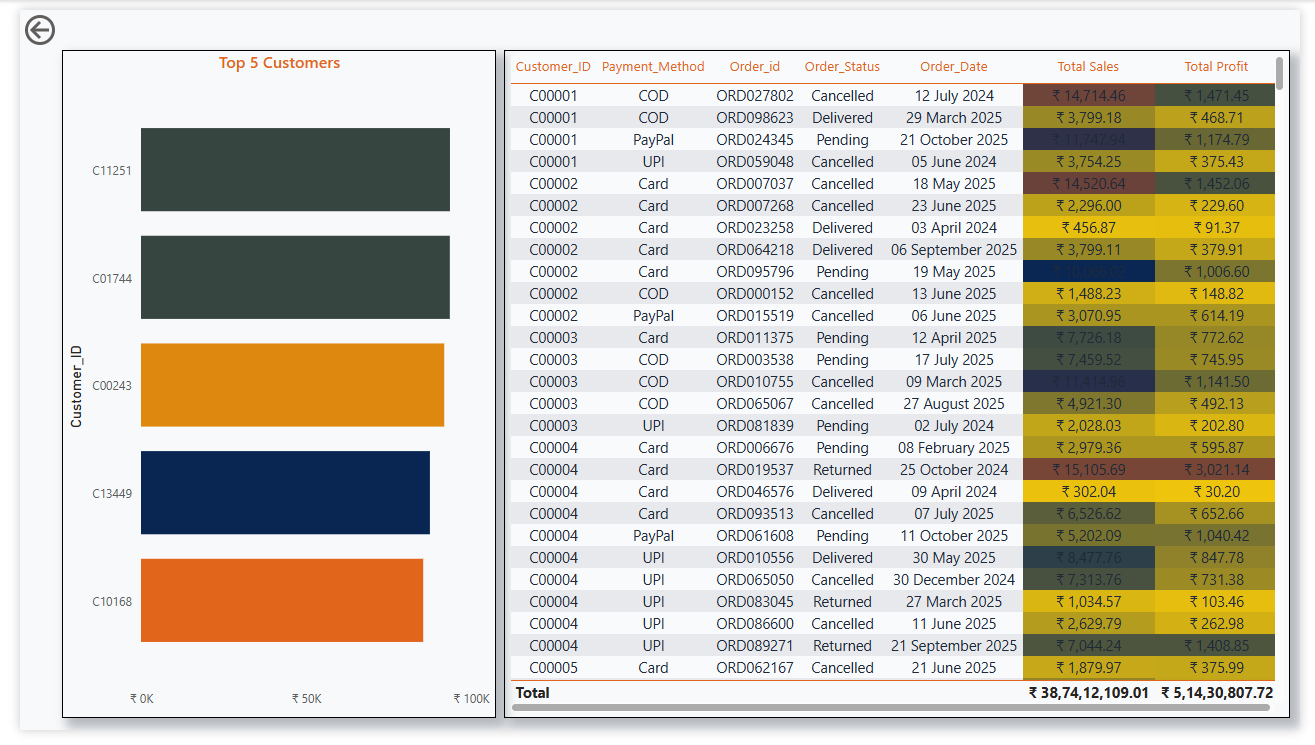

What the dashboard file says about the page in this screenshot:
{"tool":"powerbi","page":{"name":"Customer Analysis","canvas":[1280,720],"ordinal":3},"visuals":[{"type":"barChart","title":"Top 5 Customers","fields":{"Category":["ShopEase.Customer_ID"],"Y":["All Measures.Total Sales"]},"box":[41.7,39.9,434.5,667.7],"z":0},{"type":"actionButton","box":[0,0,41.7,39.9],"z":1000},{"type":"tableEx","fields":{"Values":["ShopEase.Customer_ID","ShopEase.Payment_Method","ShopEase.Order_id","ShopEase.Order_Status","ShopEase.Order_Date","All Measures.Total Sales","All Measures.Total Profit"]},"box":[484.1,39.9,785.6,667.7],"z":1001}]}

Visuals, with their boxes in screenshot pixels (x1, y1, x2, y2), scaled from the page's 1280x720 canvas onto the 1315x745 screenshot:
"Top 5 Customers" barChart: bbox=(43, 41, 489, 732)
actionButton: bbox=(0, 0, 43, 41)
tableEx - ShopEase.Customer_ID x ShopEase.Payment_Method: bbox=(497, 41, 1304, 732)
